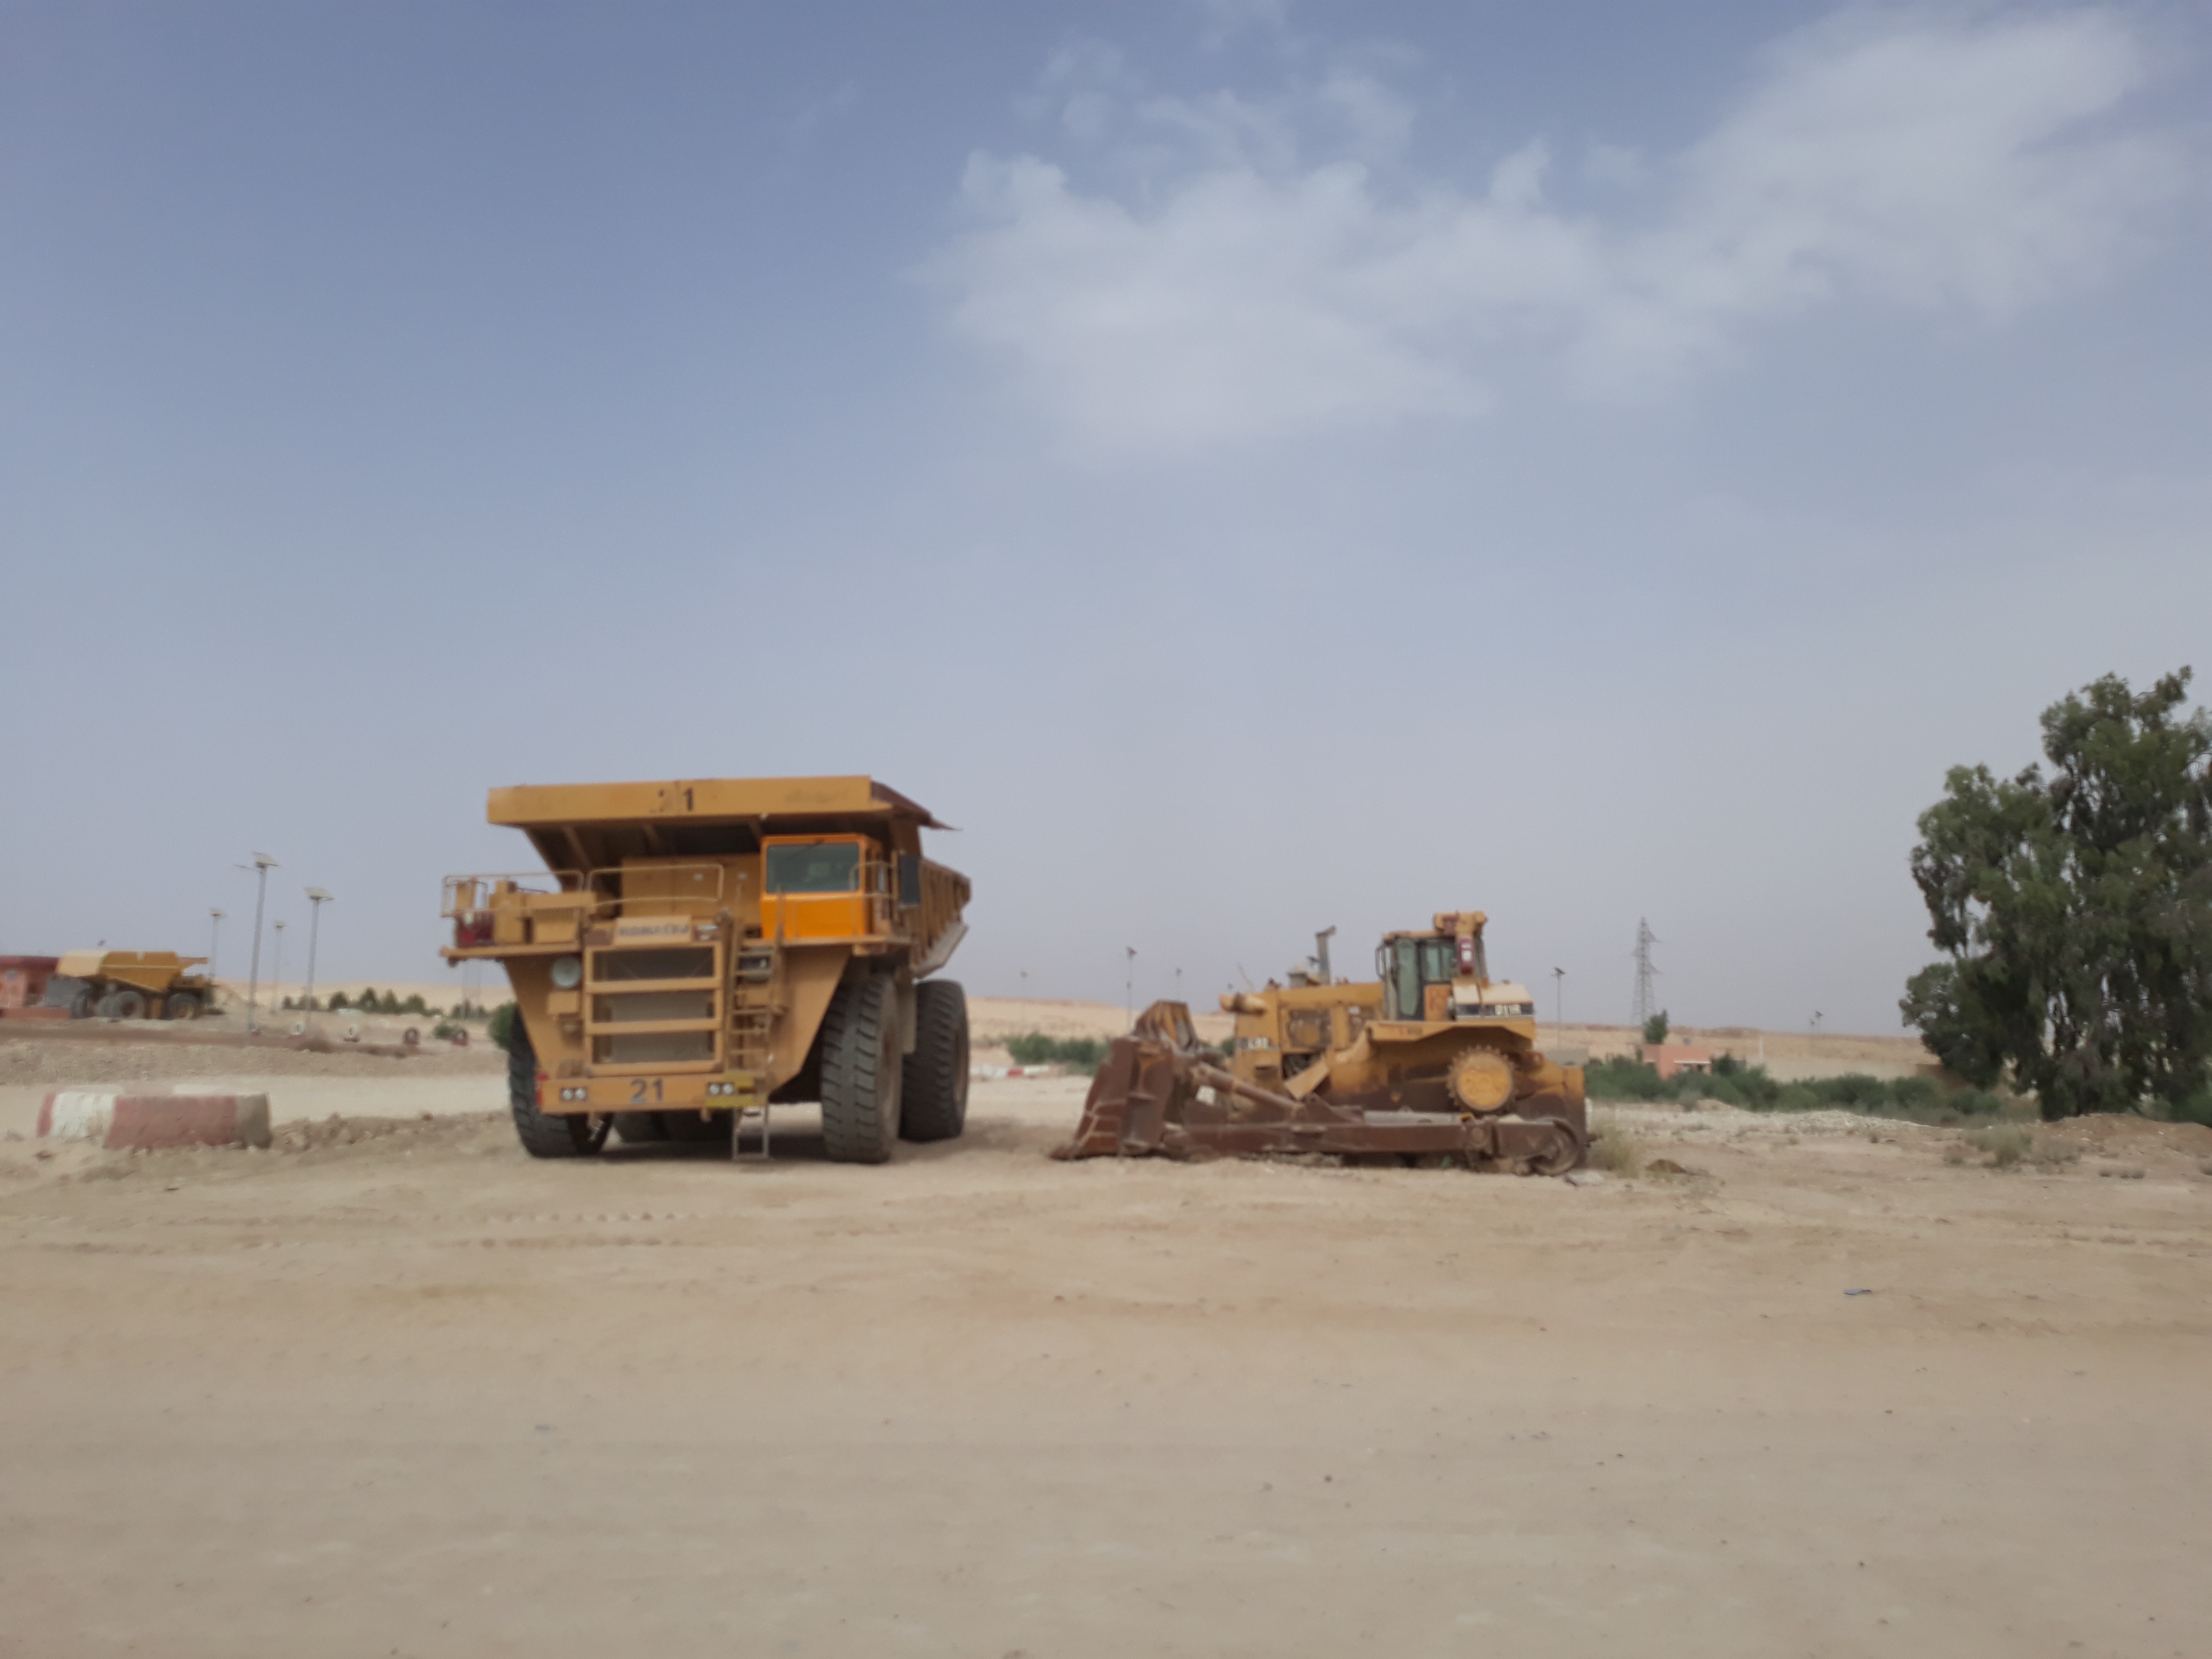bulldozer: (1068, 894, 1620, 1215)
camion: (451, 762, 1008, 1190)
